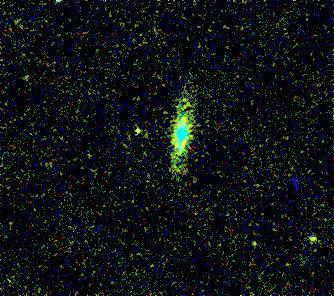star: (295, 223, 325, 253)
